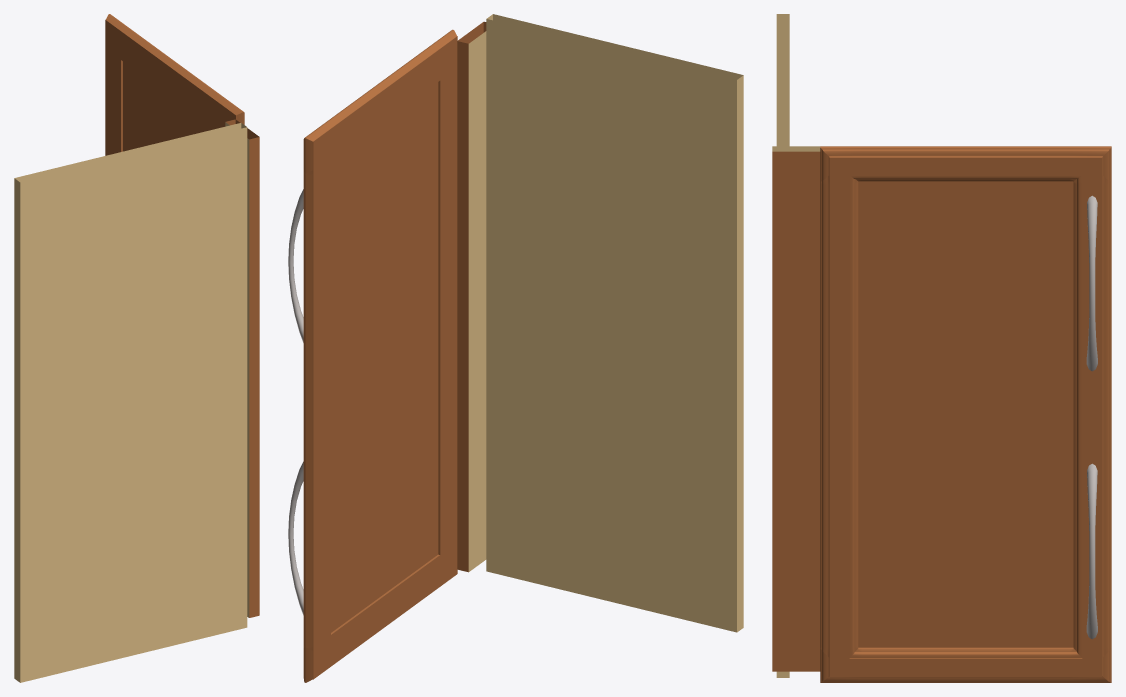
The model's file is cabinet_base.dae.
The picture shows the model from 3 angles, left to right: view 1: azimuth 30°, elevation 25°; view 2: azimuth 150°, elevation 25°; view 3: azimuth 270°, elevation 25°; orthographic projection. The views are drawn at different scales.
Parts seen in each view (by area): view 1: SHF, HR_4 (×2), TB_11_CC, TB_11_CR, TB_11_BC, TB_11_BR, TB_11_TR; view 2: SHF, TB_11_CC, HR_4 (×2), TB_11_BC, TB_11_TC, TB_11_CR, TB_11_CL, TB_11_BR, TB_11_BL, _3021_copy_001, instance_10, TB_11_TR (+1 smaller); view 3: TB_11_CC, HR_4, TB_11_TC, TB_11_BC, TB_11_CL (×2), TB_11_CR, SHF, _3021_copy_001, instance_10, TB_11_BR, TB_11_TR, TB_11_BL (+1 smaller).
Part boxes in pixels (x1,y1,x2,y2): SHF: (14,123,247,682); HR_4 (×2): (225,119,259,617); TB_11_CC: (124,63,214,150); TB_11_CR: (123,28,224,128); TB_11_BC: (105,50,124,155); TB_11_BR: (105,14,128,61); TB_11_TR: (218,98,244,128); SHF: (486,14,743,632); TB_11_CC: (331,84,436,630); HR_4 (×2): (457,21,486,572); TB_11_BC: (303,163,330,645); TB_11_TC: (436,70,457,553); TB_11_CR: (326,45,438,158); TB_11_CL: (331,556,438,664); TB_11_BR: (303,122,332,175); TB_11_BL: (303,633,332,682); _3021_copy_001: (288,189,303,342); instance_10: (288,461,303,615); TB_11_TR: (431,29,457,82); TB_11_CC: (862,182,1069,645); HR_4: (772,151,820,671); TB_11_TC: (820,182,861,648); TB_11_BC: (1069,182,1111,648); TB_11_CL (×2): (862,645,1069,682); TB_11_CR: (862,146,1069,181); SHF: (776,14,789,677); _3021_copy_001: (1086,195,1097,371); instance_10: (1086,463,1097,639); TB_11_BR: (1069,146,1111,181); TB_11_TR: (820,146,861,181); TB_11_BL: (1069,647,1111,682).
Bounding box in the file's own units: 19.25 × 34.5 × 19.5.
